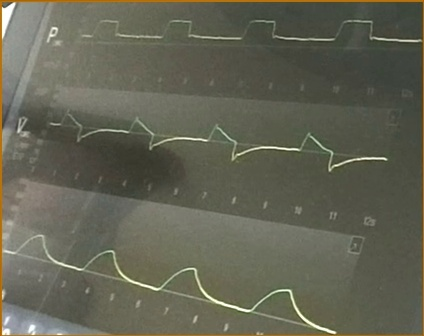Normal Flow: (49, 98, 388, 183)
Normal Volume: (4, 232, 331, 333)
